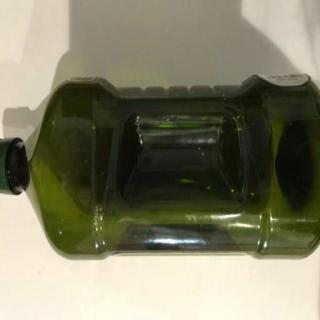Plastic-bottle: (1, 73, 320, 260)
